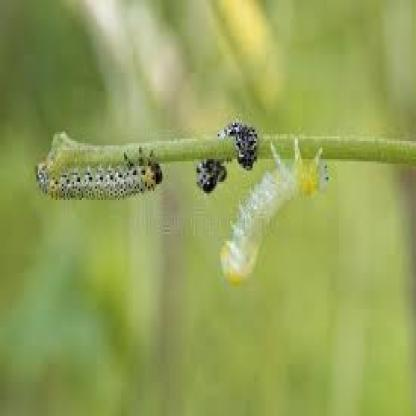sawfly: (218, 133, 335, 284), (32, 149, 166, 200), (197, 118, 260, 201)
